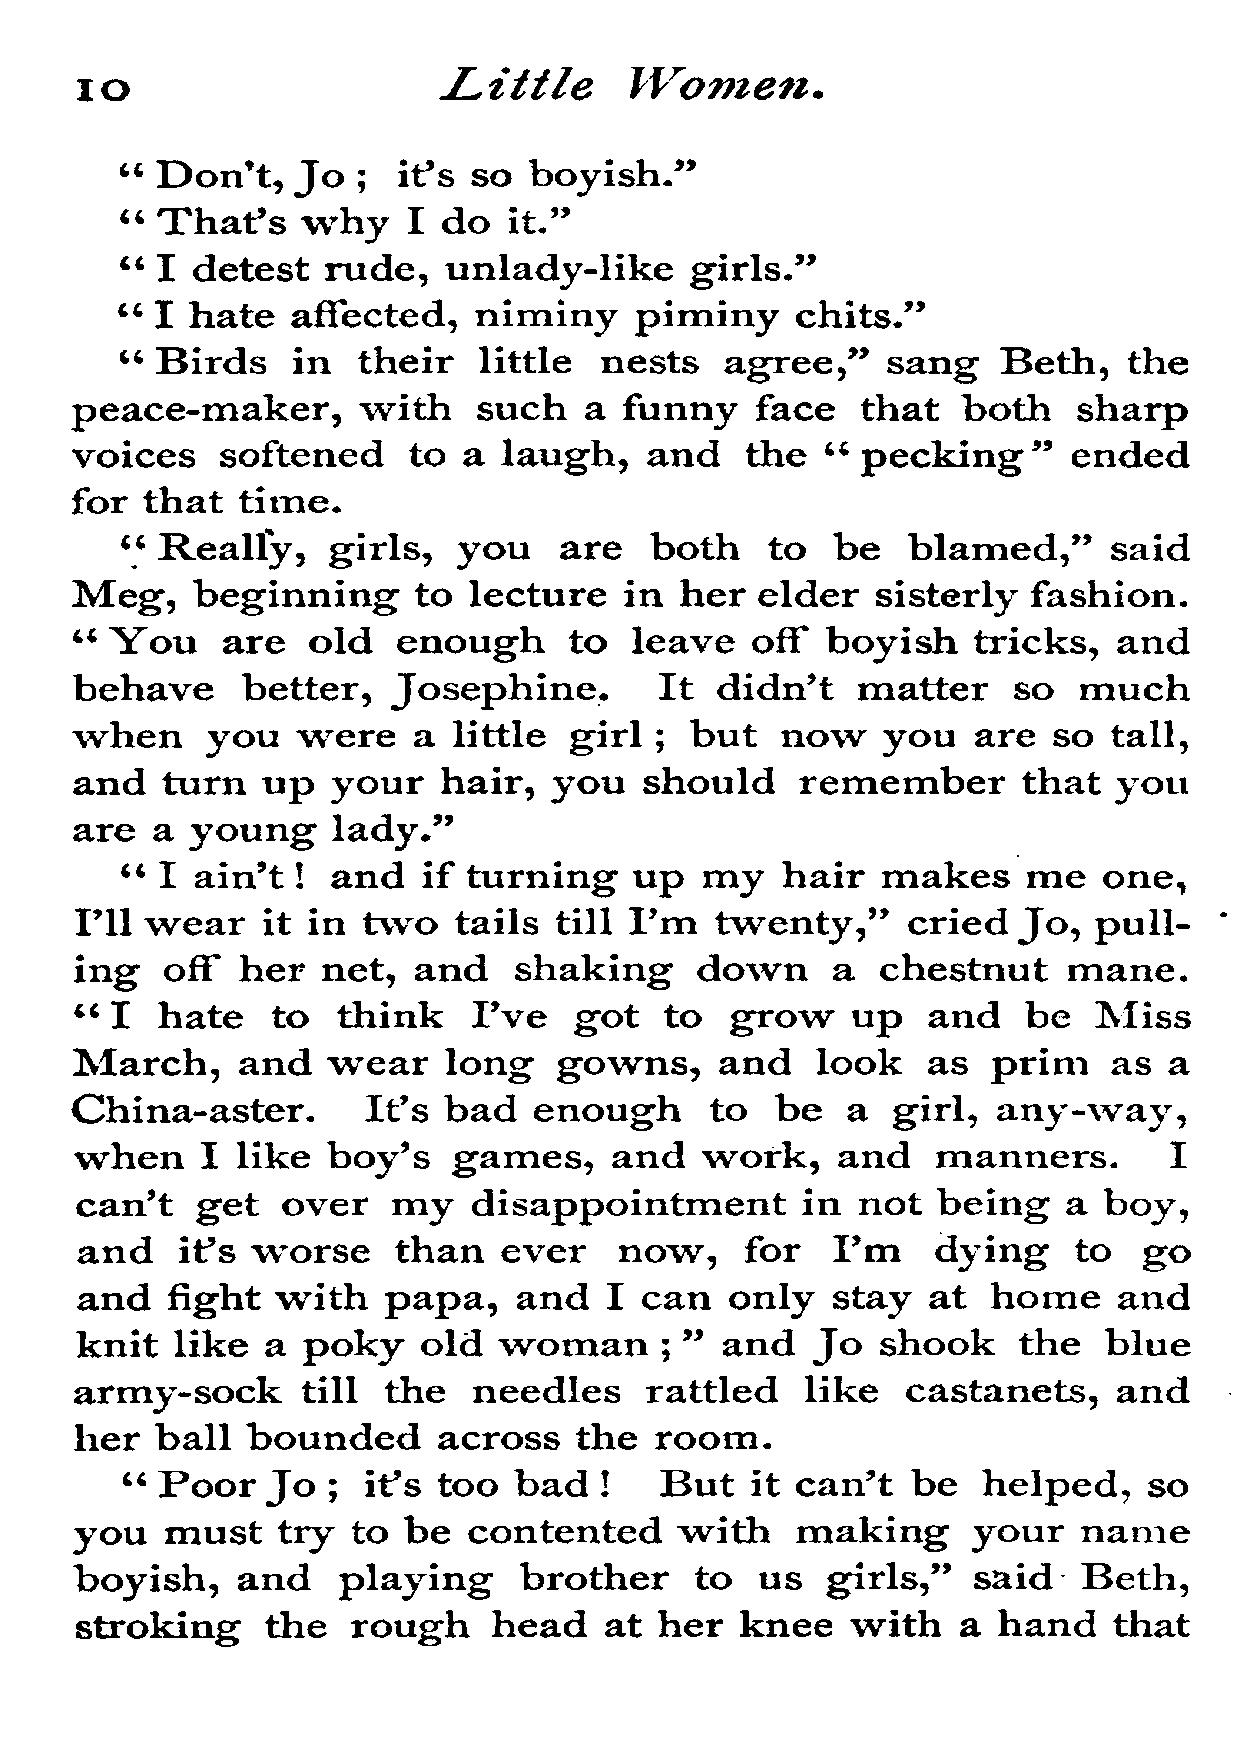content: (67, 152, 1198, 1645)
content_chapter: (436, 59, 828, 107)
content_pagenumber: (67, 71, 134, 107)
